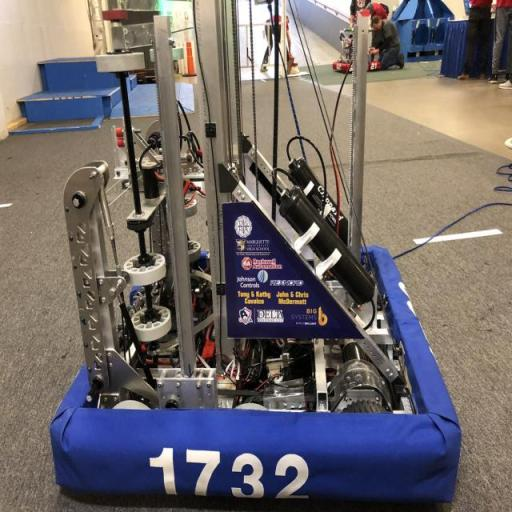robot: (51, 6, 459, 507), (333, 20, 387, 76)
